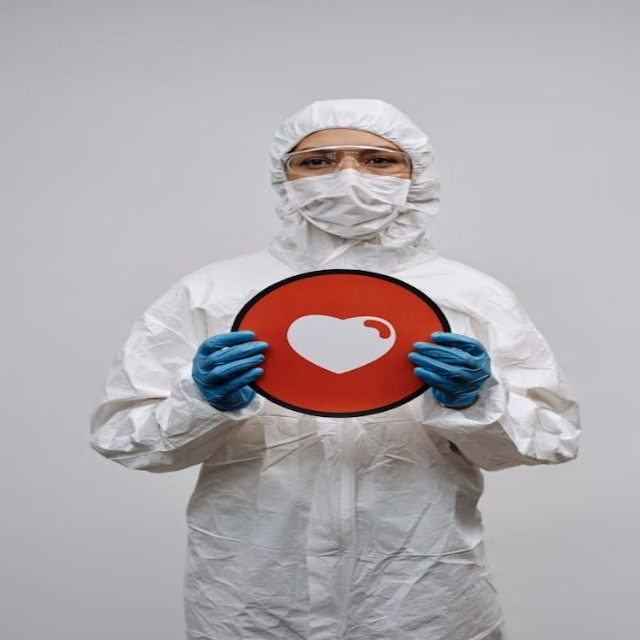Gafas: (282, 147, 413, 177)
Guantes: (408, 331, 490, 408), (192, 330, 270, 409)
Mascara: (283, 164, 414, 237)
